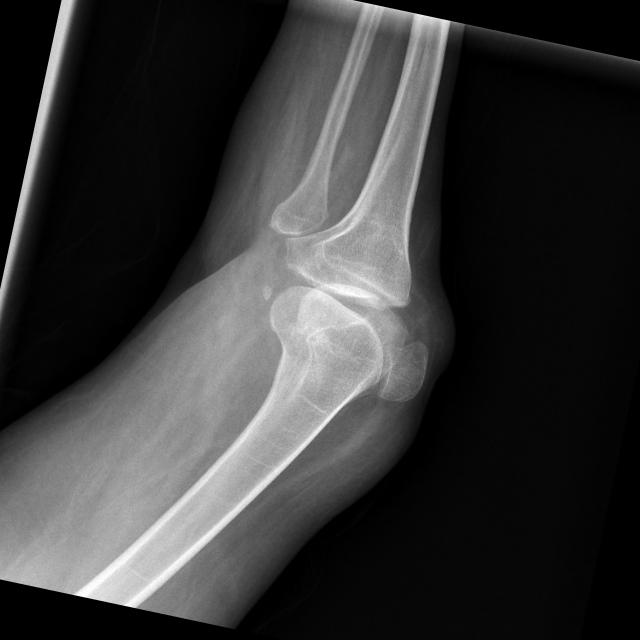Knee: (228, 208, 456, 412)
